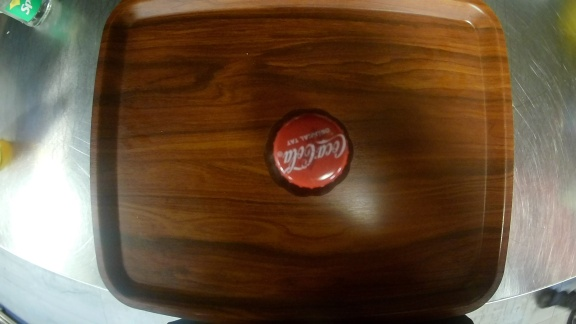camkola: (260, 105, 359, 204)
